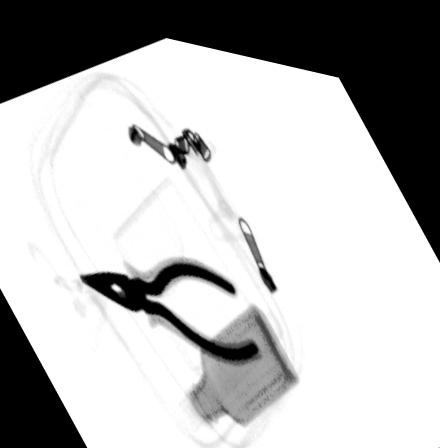Pliers: (77, 246, 263, 354)
